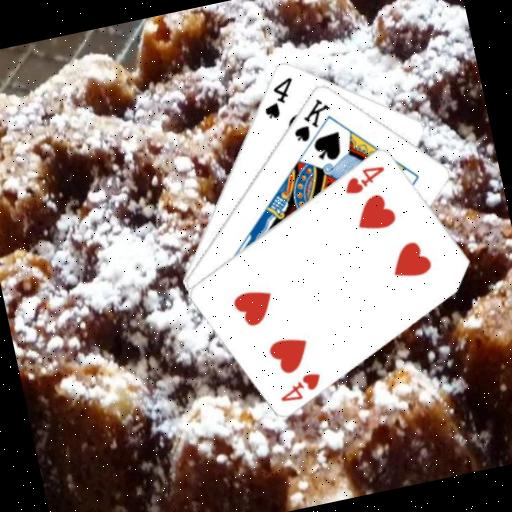4H: (273, 367, 326, 405), (337, 160, 389, 197)
4S: (255, 73, 301, 122)
KS: (284, 92, 338, 145)
